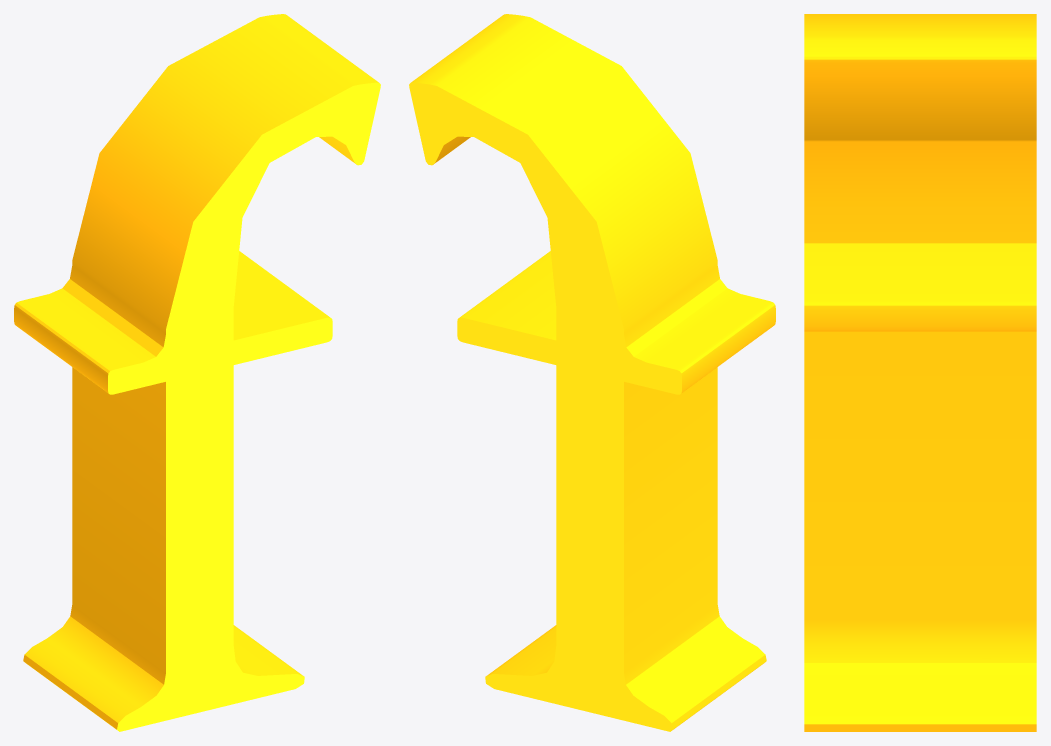
The model's file is F_Soul_Yellow.glb.
The picture shows the model from 3 angles, left to right: view 1: azimuth 30°, elevation 25°; view 2: azimuth 150°, elevation 25°; view 3: azimuth 270°, elevation 25°; orthographic projection. The views are drawn at different scales.
Visible parts, largest first — view 1: f_Soul_Yellow; view 2: f_Soul_Yellow; view 3: f_Soul_Yellow.
Part boxes in pixels (left/top/right/bottom): f_Soul_Yellow: left=14, top=14, right=380, bottom=731; f_Soul_Yellow: left=409, top=14, right=775, bottom=731; f_Soul_Yellow: left=804, top=14, right=1036, bottom=731.
Size of what is drawn, in the model's own units: 0.0756 by 0.1559 by 0.045.
Materials: 2 (2 with a texture image).
